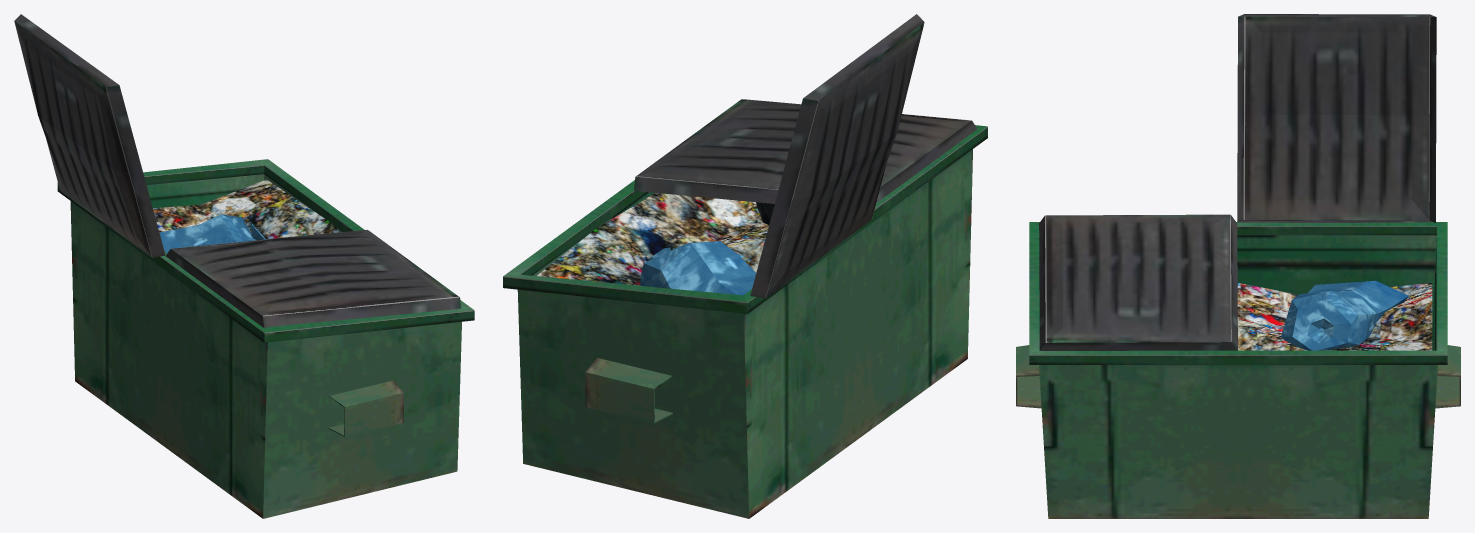
The model's file is Urban_DumpsterDiagonalFullOpen_Model.fbx.
3 views of the same model, side by side, from view 1: azimuth 30°, elevation 25°; view 2: azimuth 150°, elevation 25°; view 3: azimuth 270°, elevation 25° (orthographic). The views are drawn at different scales.
Visible parts, largest first — view 1: Urban_DumpsterDiagonalFullOpen_Mesh; view 2: Urban_DumpsterDiagonalFullOpen_Mesh; view 3: Urban_DumpsterDiagonalFullOpen_Mesh.
Boxes of the visible parts, x1,y1,x2,y2 form: Urban_DumpsterDiagonalFullOpen_Mesh: [14, 14, 474, 518]; Urban_DumpsterDiagonalFullOpen_Mesh: [503, 14, 987, 518]; Urban_DumpsterDiagonalFullOpen_Mesh: [1016, 14, 1460, 518].
Bounding box in the file's own units: 2.53 × 3.48 × 3.67.
